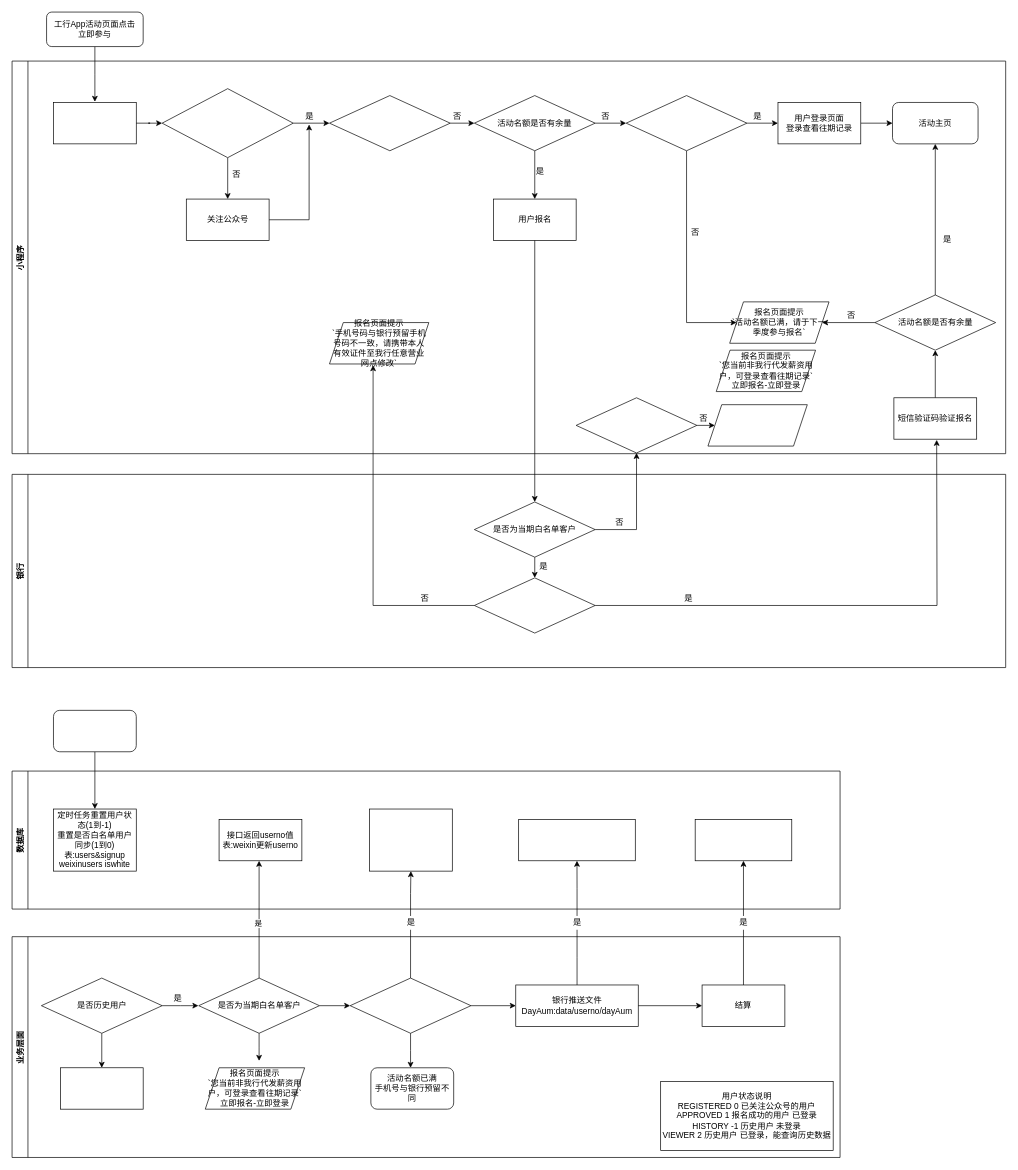
This 1018x1170 diagram has some shape labels left out. The shapes that lost their labels are listed below. From the top down, each one's centre as x and y in pixels, then its label:
At (94,123): "跳转到小程序 前置登录接口".
At (227,123): "是否关注工行贵州 公众号".
At (389,123): "是否已报名当期活动".
At (686,123): "是否参与过活动".
At (636,425): "是否参加过活动".
At (757,425): "报名页面提示 `仅限特邀用户参与`".
At (534,605): "手机号是否与银行预留一致".
At (94,731): "代发活动跨季".
At (410,839): "报名成功入库 表:signup表追加报名信息 users更新userno，status=1".
At (576,840): "文件内容入库 表:取signup表userno对应userid 表DayAum:入库 data/userid/userno/dayAum".
At (743,840): "users表已报名用户 BaseAum:users表数据 DayAum:DayAum根据userid去重计算平均值".
At (410,1005): "是否报名成功".
At (101,1088): "一期用户报名登录流程".
